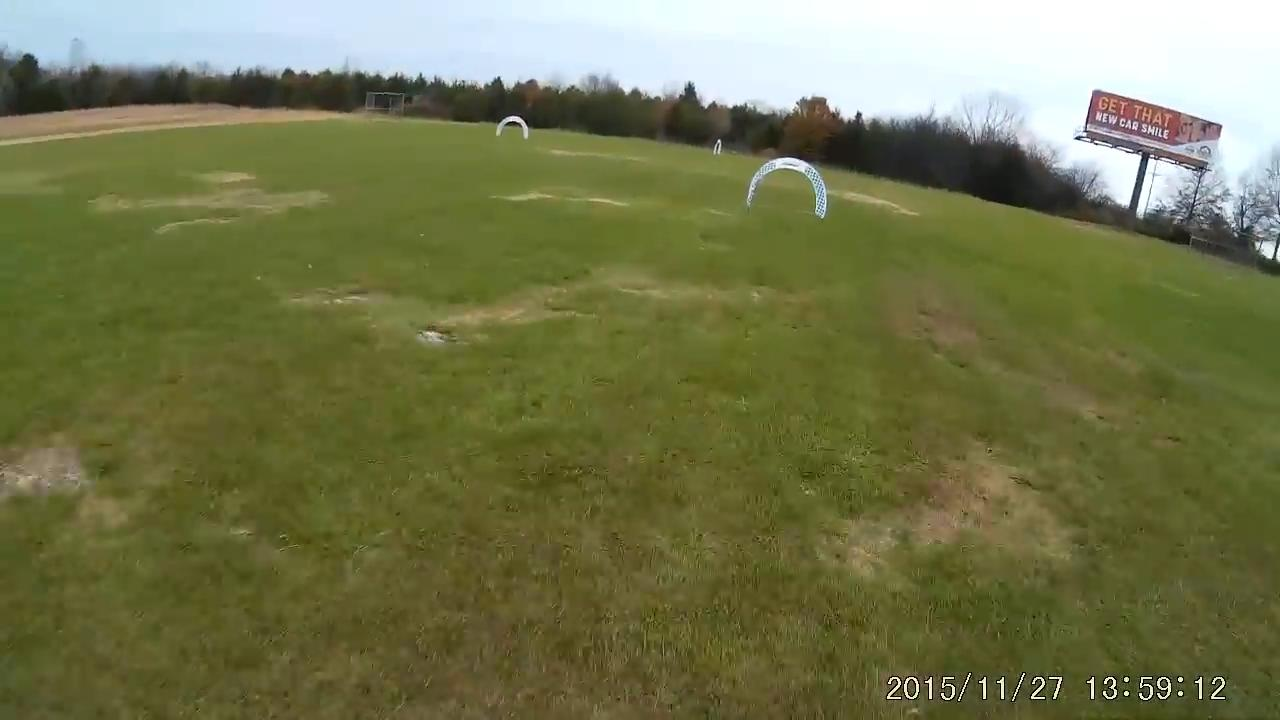gate: (745, 156, 828, 225)
